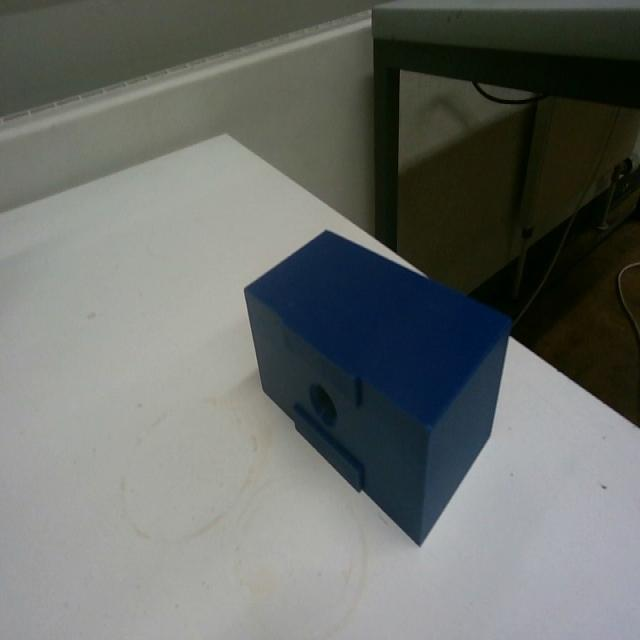Blue Cuboid: (241, 224, 513, 547)
